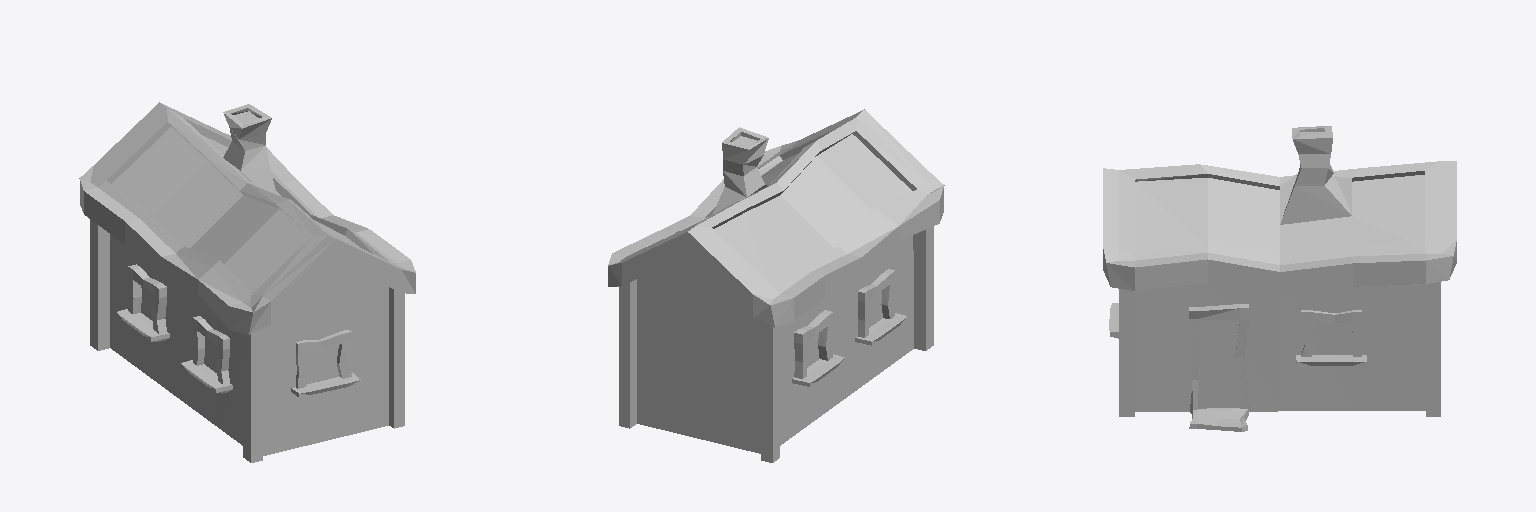
File: house.obj
3 renders of one model, left to right at view 1: azimuth 30°, elevation 25°; view 2: azimuth 150°, elevation 25°; view 3: azimuth 270°, elevation 25°, orthographic.
Visible parts, largest first — view 1: Cube.004_Cube.007; view 2: Cube.004_Cube.007; view 3: Cube.004_Cube.007.
Boxes of the visible parts, x1=… form: Cube.004_Cube.007: x1=79, y1=102, x2=415, y2=462; Cube.004_Cube.007: x1=608, y1=109, x2=944, y2=462; Cube.004_Cube.007: x1=1103, y1=126, x2=1456, y2=431.
Bounding box in the file's own units: 7.95 × 9.79 × 12.28.